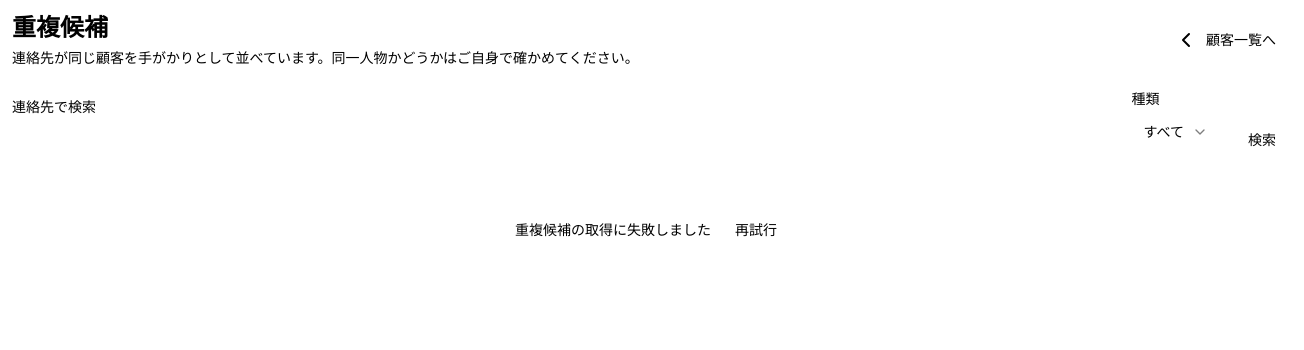
Scenario: CustomerDuplicatesPage › 取得に失敗した領域が自分で名乗り、再試行を出すこと
The width and height of the screenshot is (1304, 350).
Expected: the text "重複候補の取得に失敗しました" is shown, [515,220,711,240]
Click the button "再試行". click: {"x": 756, "y": 230}
box: [723,214,789,246]
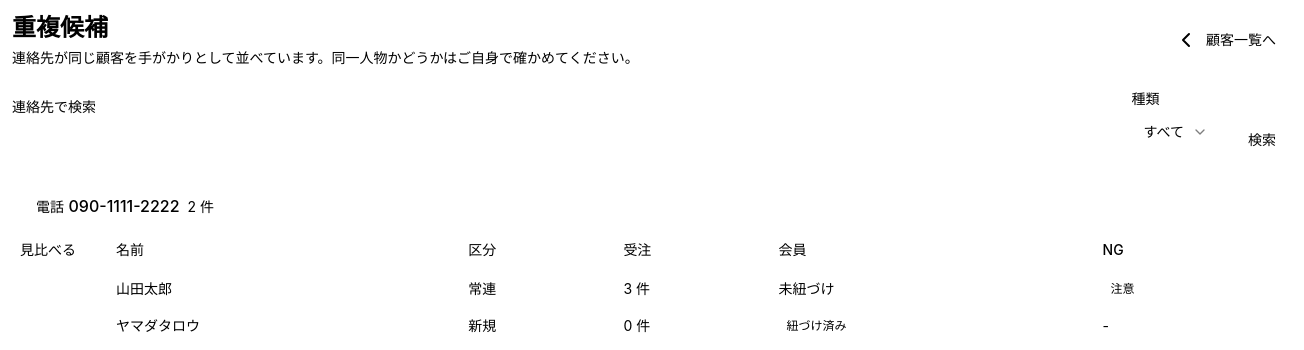
Expected: the text "山田太郎" is shown, [108,270,460,307]
